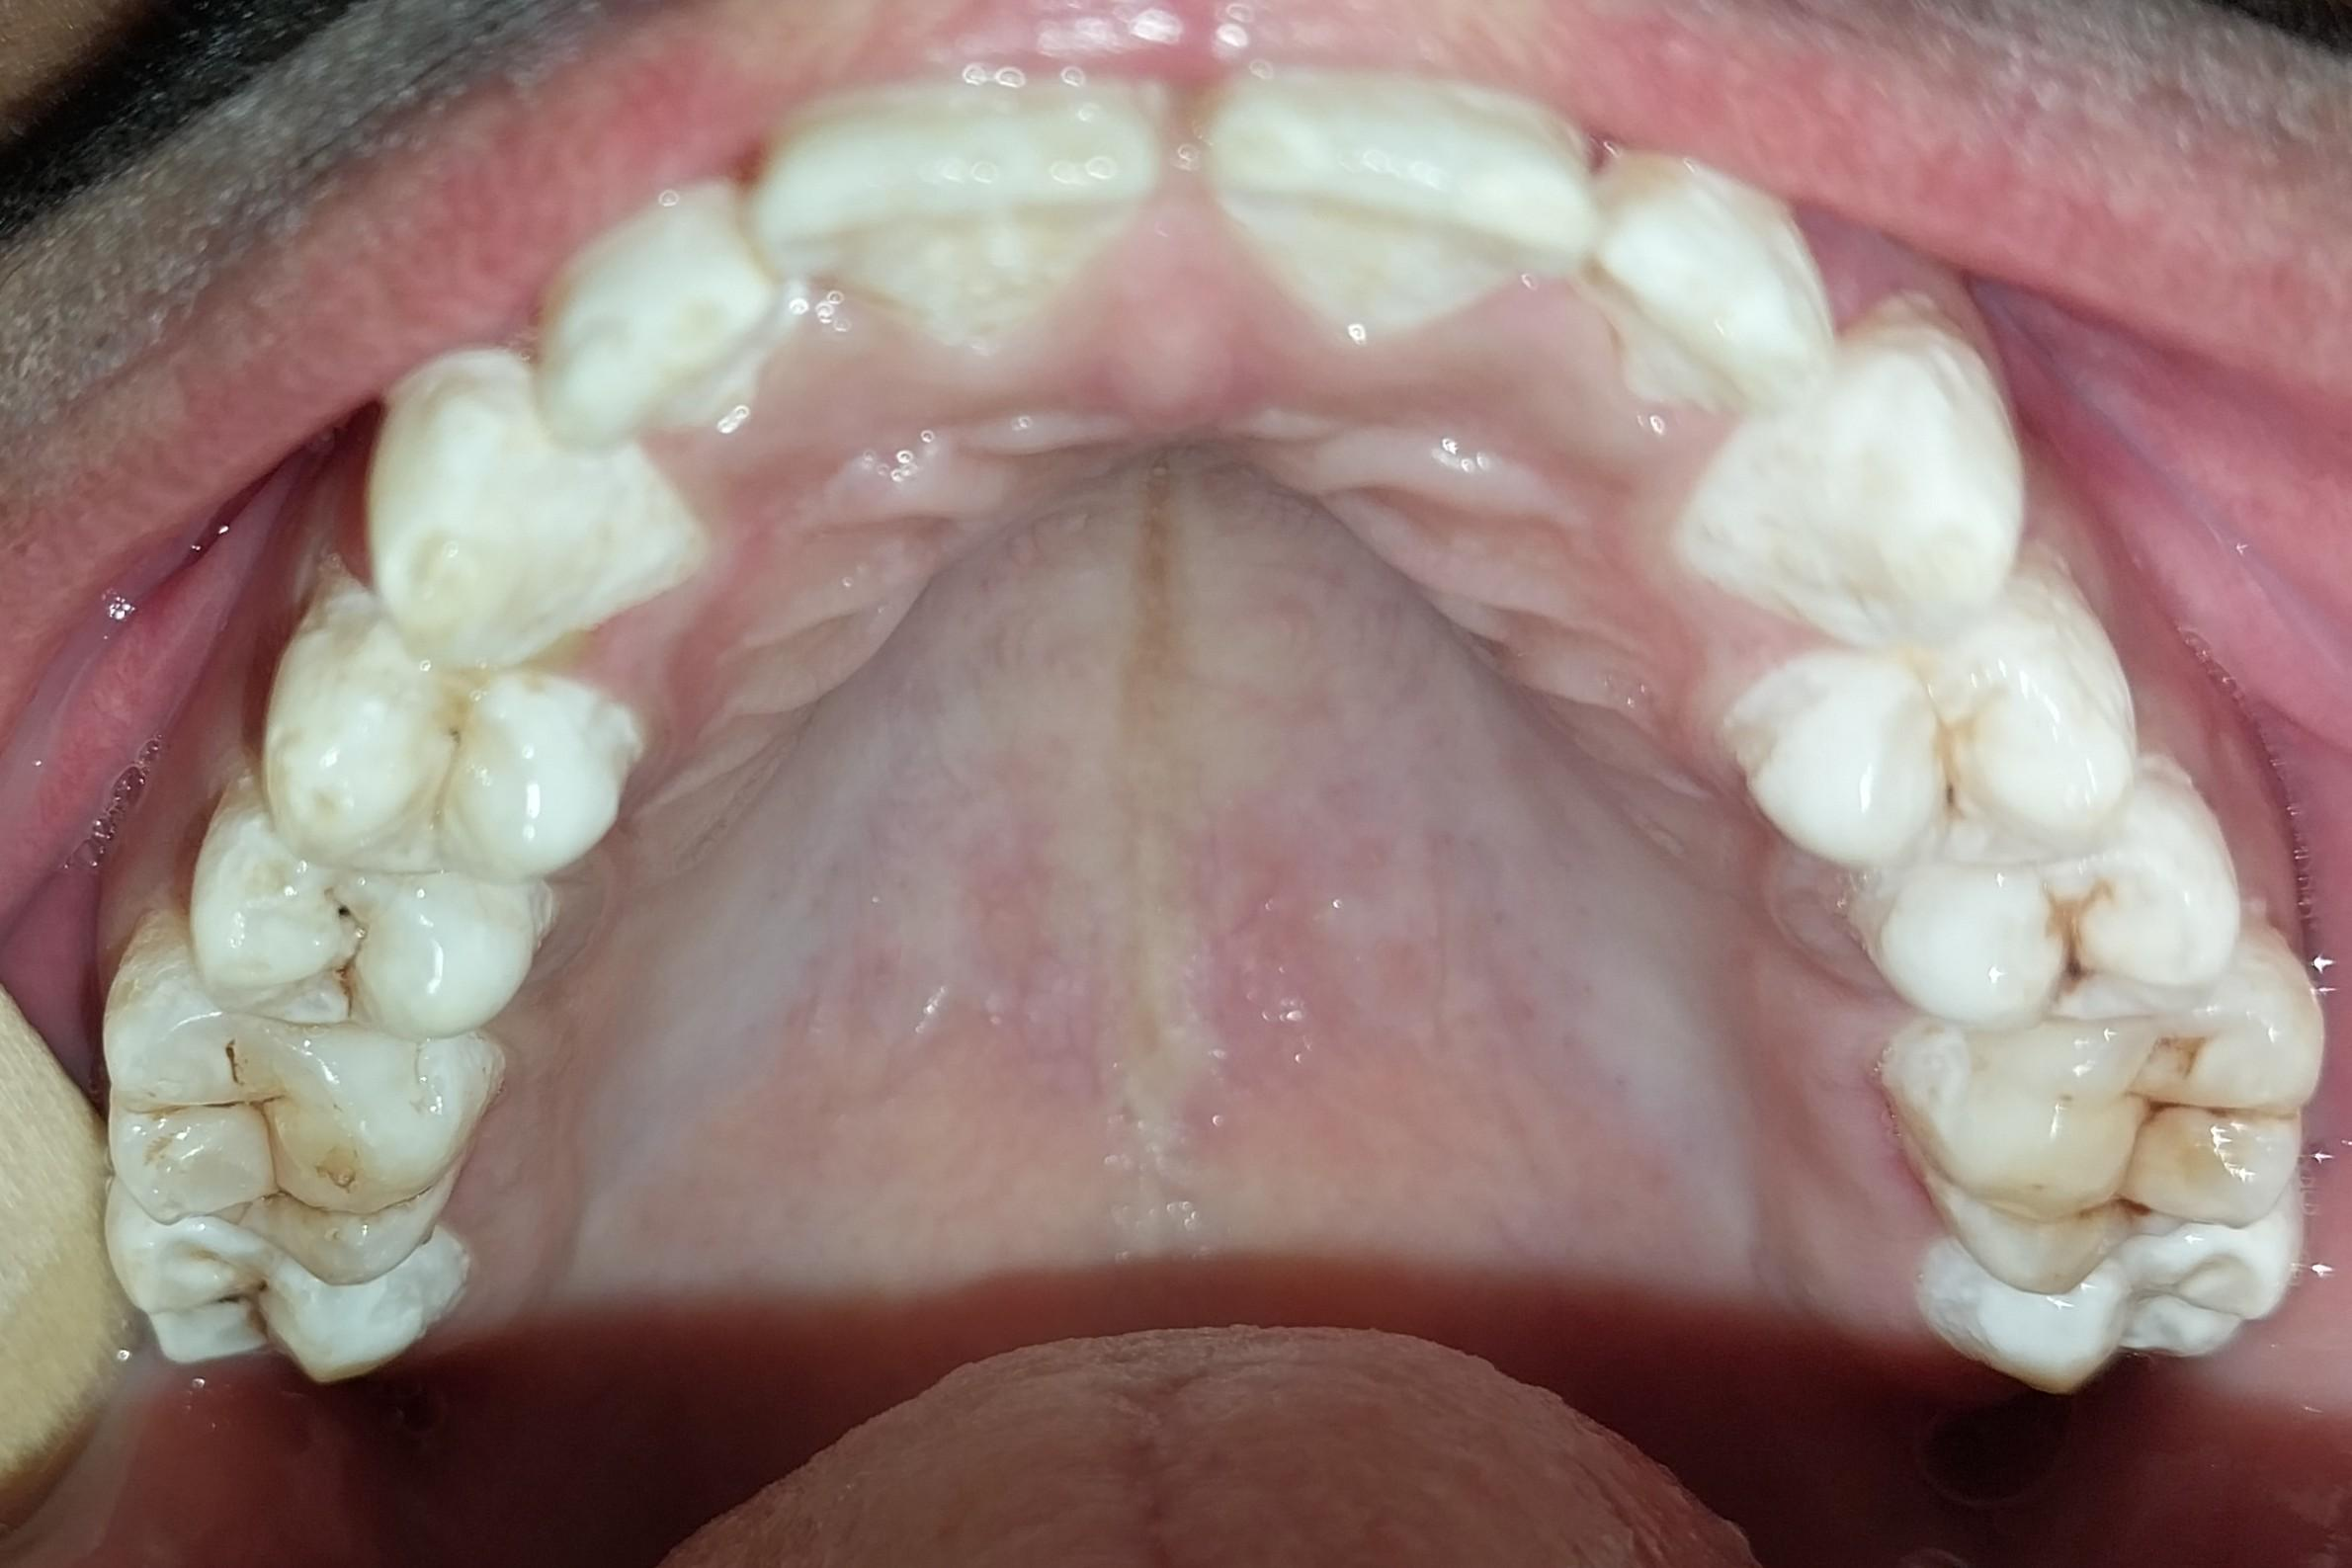D: (1890, 946, 2319, 1291), (1724, 614, 2142, 891), (1852, 764, 2249, 1033), (182, 784, 556, 1033), (100, 1163, 468, 1385)
